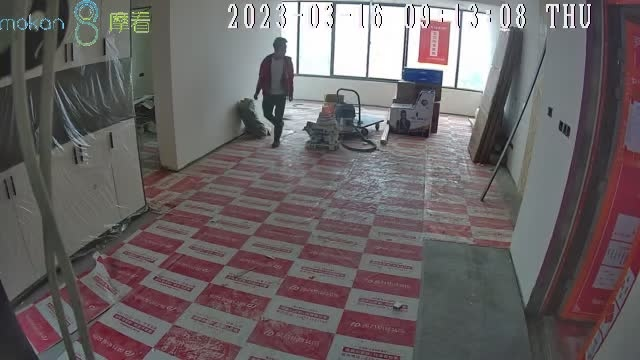people: (254, 37, 294, 149)
window: (280, 1, 494, 92)
